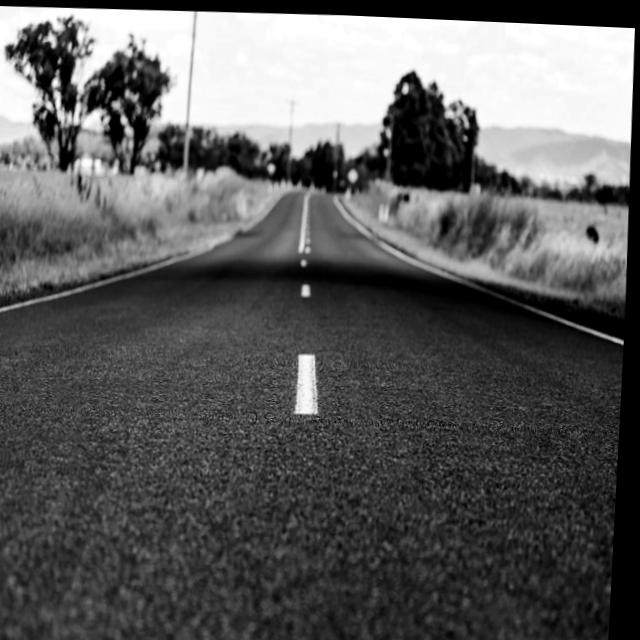cleat: (59, 7, 634, 640)
